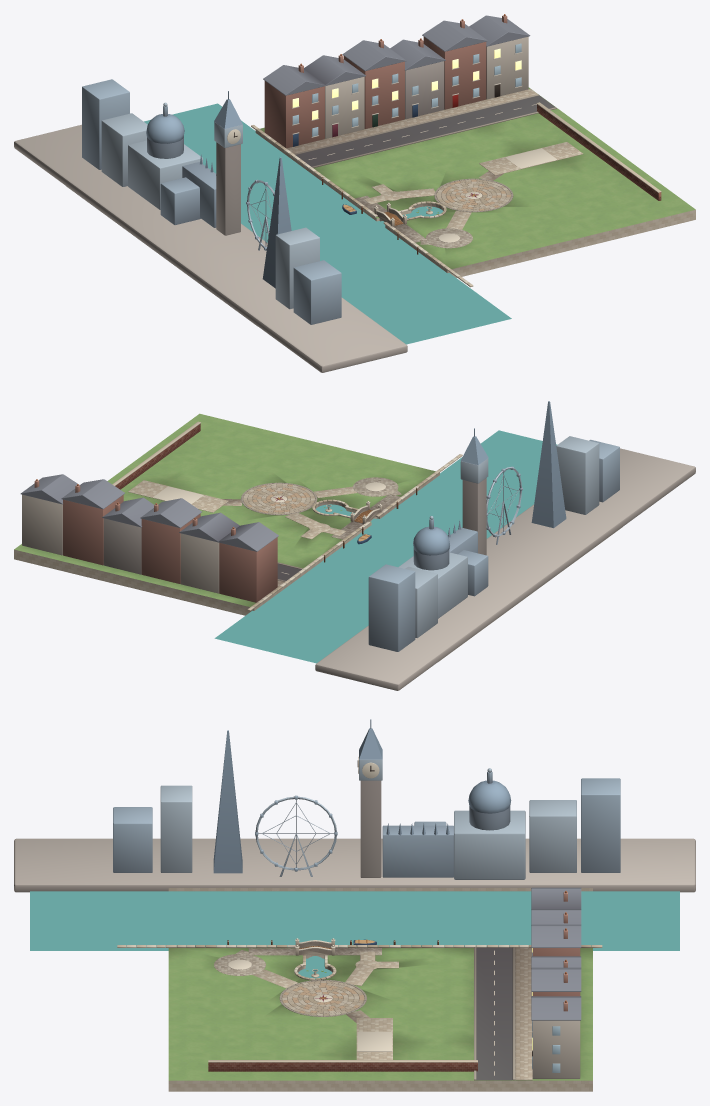
The model's file is london-hub.glb.
3 views of the same model, one above another, from view 1: azimuth 30°, elevation 25°; view 2: azimuth 150°, elevation 25°; view 3: azimuth 270°, elevation 25° (orthographic). The views are drawn at different scales.
Parts seen in each view (by area): view 1: Skyline, Background, Ground, Water_River, Paving, SquarePaving, Waterside; view 2: Skyline, Ground, Background, Water_River, Paving, SquarePaving, Waterside; view 3: Skyline, Ground, Water_River, Background, Paving, SquarePaving, Waterside, Bridge.
Boxes of the visible parts, x1,y1,x2,y2 form: Skyline: (14,79,407,372); Background: (263,14,661,200); Ground: (66,87,695,326); Water_River: (144,103,511,344); Paving: (355,142,583,248); SquarePaving: (434,178,513,212); Waterside: (251,125,473,287); Skyline: (315,401,695,690); Ground: (14,413,622,661); Background: (20,421,302,602); Water_River: (214,430,557,663); Paving: (128,477,401,539); SquarePaving: (241,482,317,515); Waterside: (247,454,462,610); Skyline: (14,719,695,892); Ground: (168,888,592,1091); Water_River: (30,891,679,950); Background: (208,887,581,1080); Paving: (214,948,398,1059); SquarePaving: (279,979,366,1016); Waterside: (117,939,602,980); Bridge: (295,938,335,958).
Size of the model in its own units: 71.5 by 23.6 by 86.
Materials: 12 (6 with a texture image).
